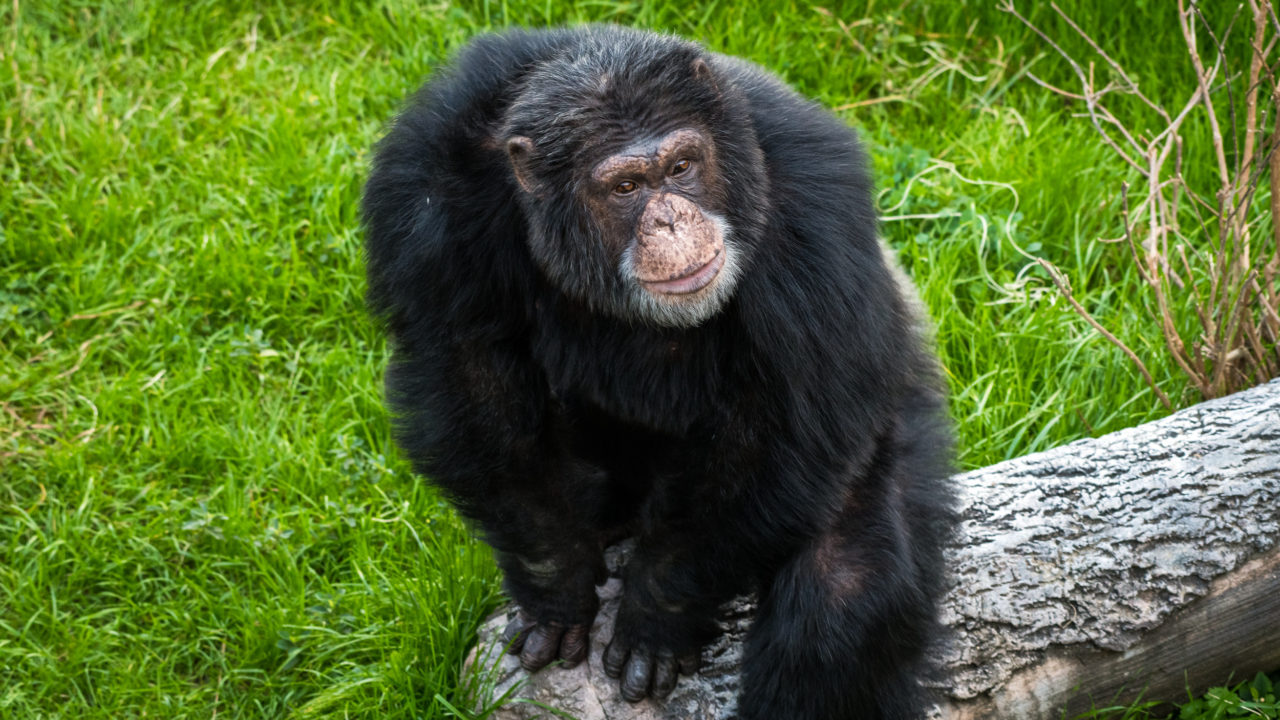Champanze: (356, 18, 961, 695)
